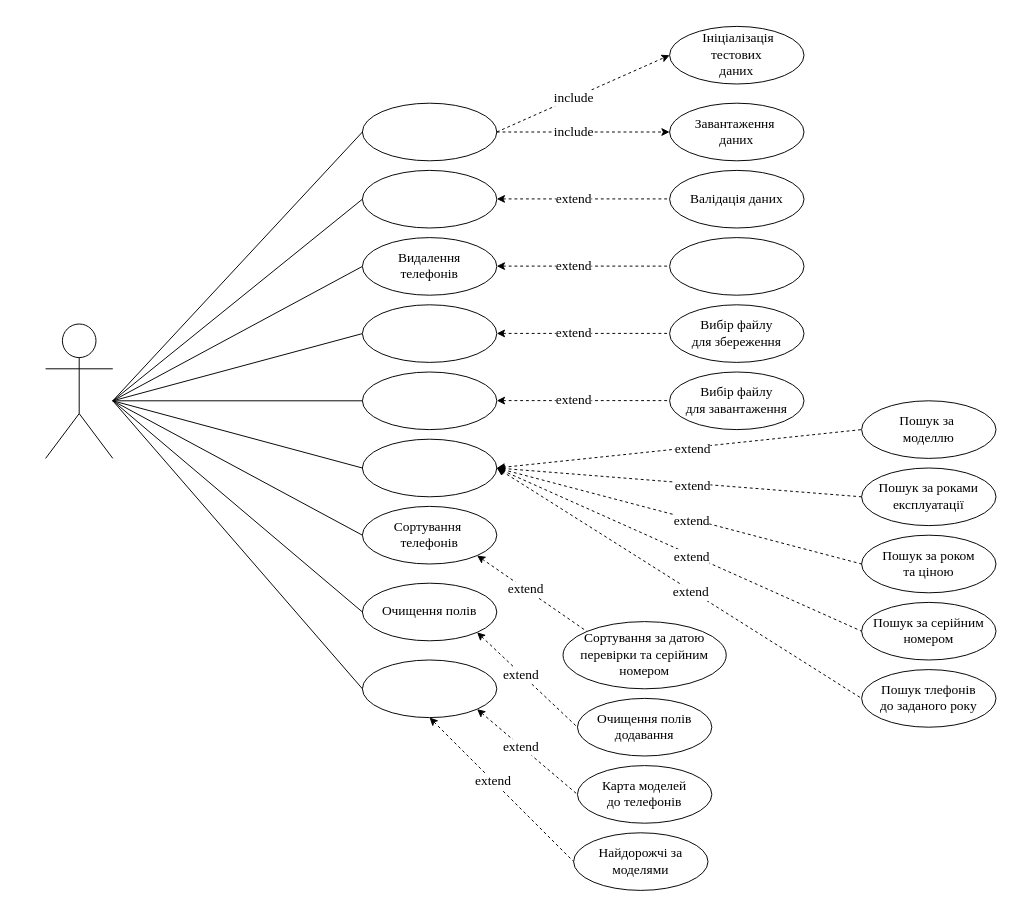
Some shapes in this 1021 by 916 pixel diagram are drawn without their labels. Here are the shapes that lost their labels. From the top down, the centre of each, then its label:
At [429,131]: "Перегляд телефонів".
At [429,198]: "Додавання телефонів".
At [736,266]: "Видалення за ID".
At [429,333]: "Збереження у файл".
At [79,390]: "Працівник крамниці".
At [429,400]: "Завантаження з файлу".
At [429,467]: "Пошук телефонів".
At [429,688]: "Аналіз даних".
